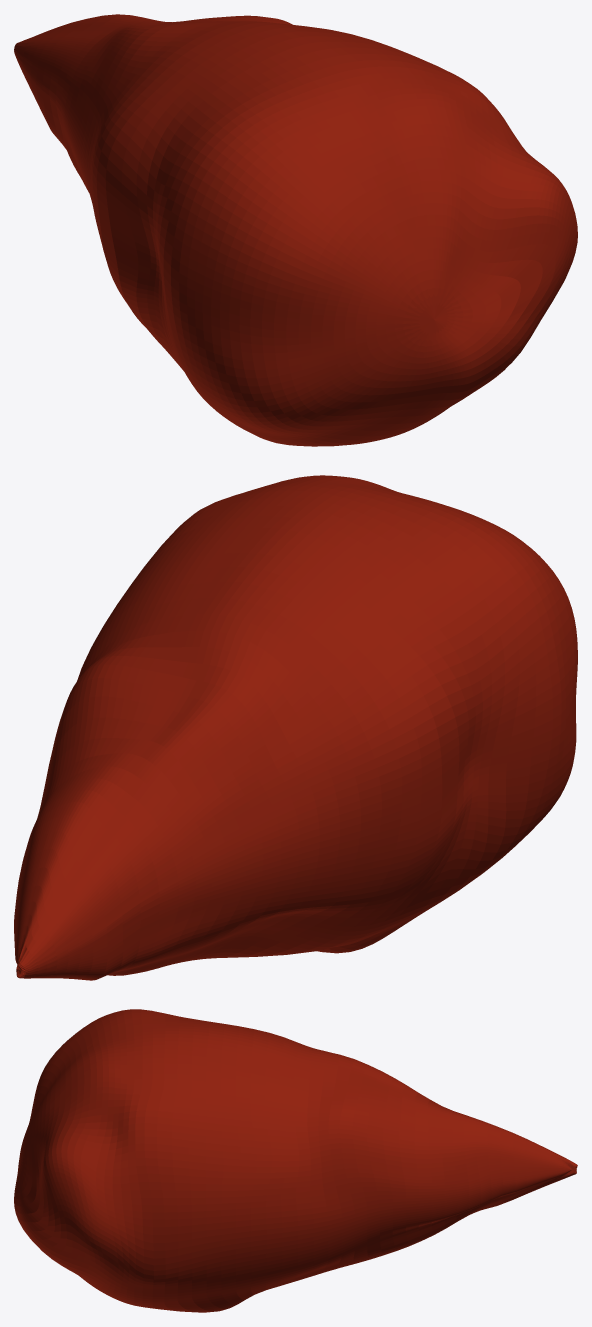
The model's file is MeteorBullet.fbx.
The picture shows the model from 3 angles, top to bottom: view 1: azimuth 30°, elevation 25°; view 2: azimuth 150°, elevation 25°; view 3: azimuth 270°, elevation 25°; orthographic projection. The views are drawn at different scales.
Parts seen in each view (by area): view 1: MeteorAmmo; view 2: MeteorAmmo; view 3: MeteorAmmo.
Boxes of the visible parts, <box> form: MeteorAmmo: <box>14,14,577,446</box>; MeteorAmmo: <box>14,475,577,980</box>; MeteorAmmo: <box>14,1009,577,1312</box>.
Size of the model in its own units: 0.9397 by 1.76 by 0.9146.
